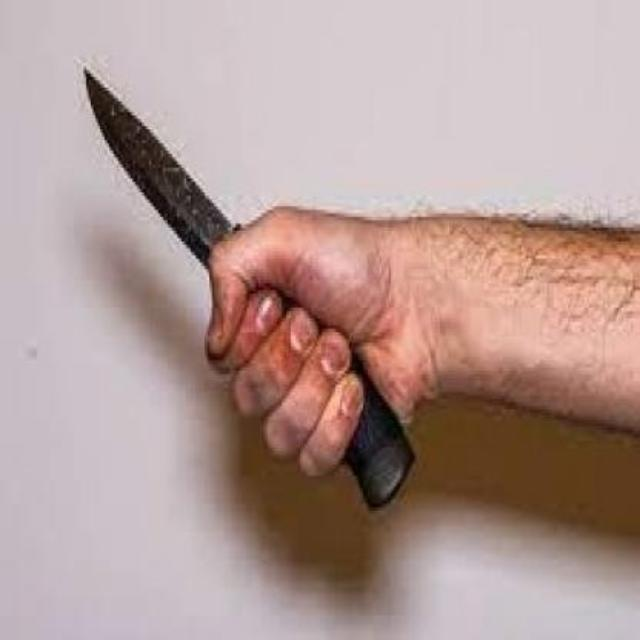Knife: (84, 71, 416, 509)
